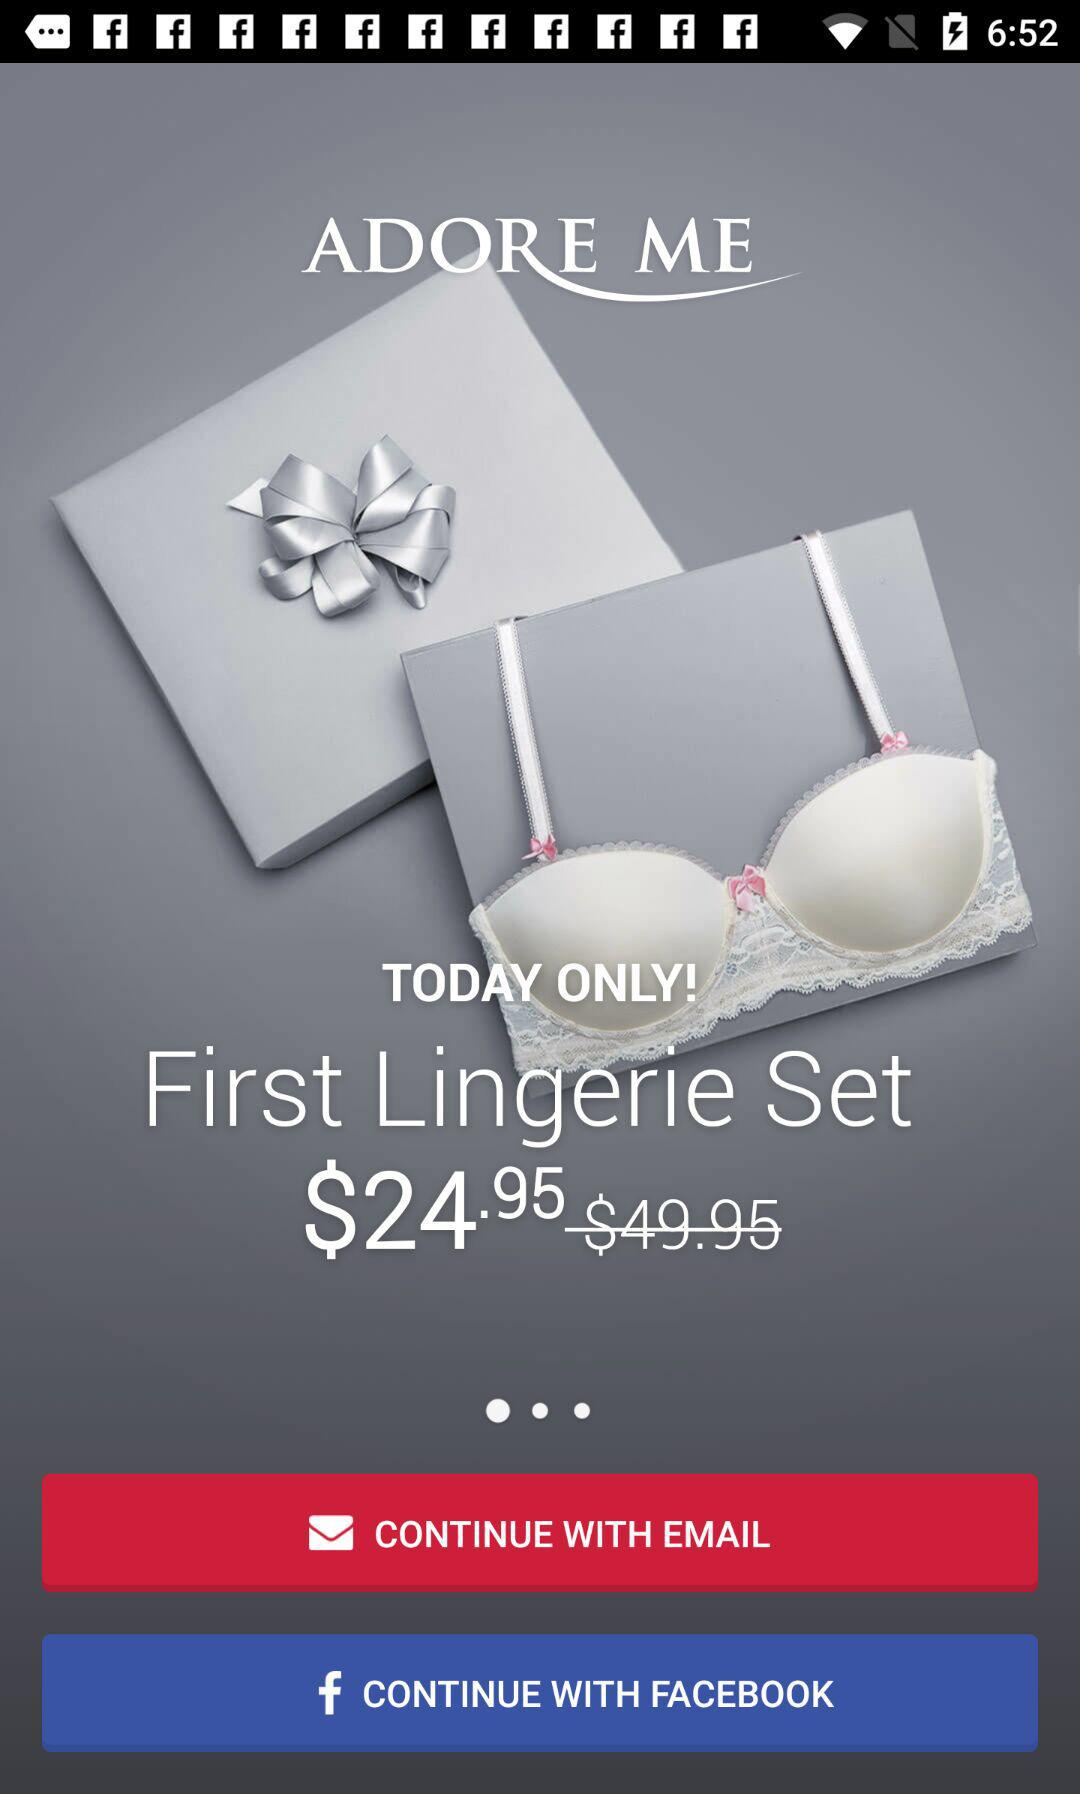BackgroundImage: (1, 64, 1080, 1794)
Image: (301, 217, 805, 304)
PageIndicator: (486, 1397, 592, 1425)
Text: (149, 1046, 912, 1261), (382, 964, 697, 1003)
TextButton: (44, 1472, 1039, 1593), (44, 1634, 1039, 1753)
UpperTaskBar: (1, 1, 1080, 64)
